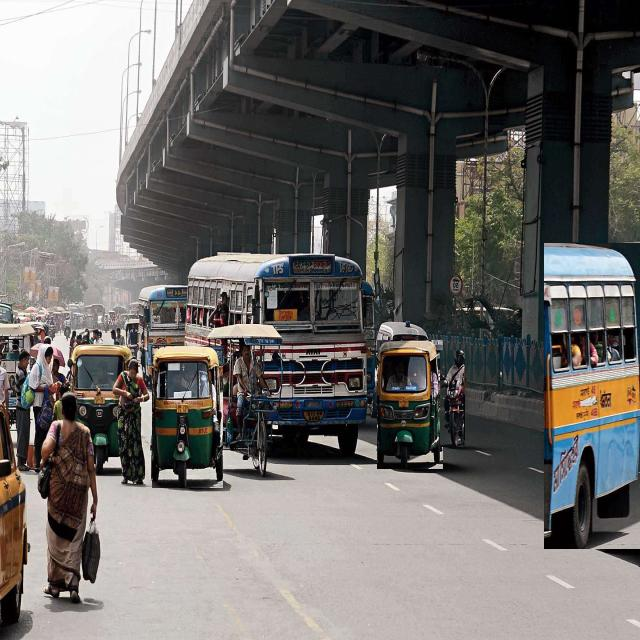autorickshaw: (152, 346, 222, 488), (377, 341, 442, 469), (71, 344, 131, 474)
bus: (185, 252, 368, 456), (544, 243, 640, 549), (139, 285, 188, 389)
motorcycle: (440, 351, 465, 447)
